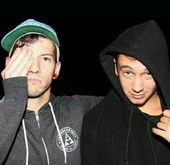face: (10, 39, 54, 96), (117, 52, 157, 104)
